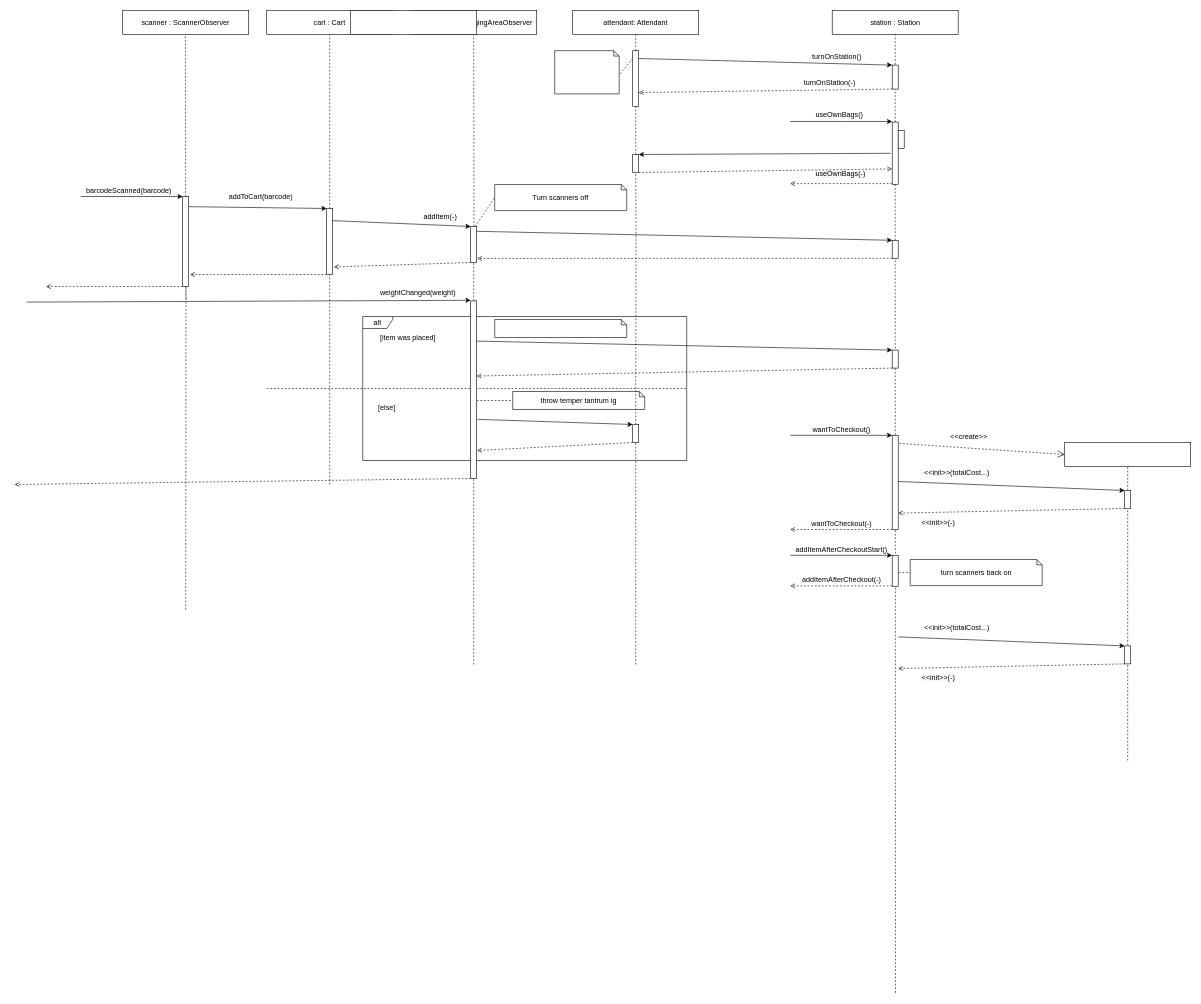
Some shapes in this 1201 by 1004 pixel diagram are drawn without their labels. The centre of each missing label's shape, as x and y in pixels:
cartObs : Cart: pixel 413 22
checkout : Checkout: pixel 1127 454
re-enable the scanner: pixel 560 328
we gotta. activate the attendant maybe idk: pixel 586 72
